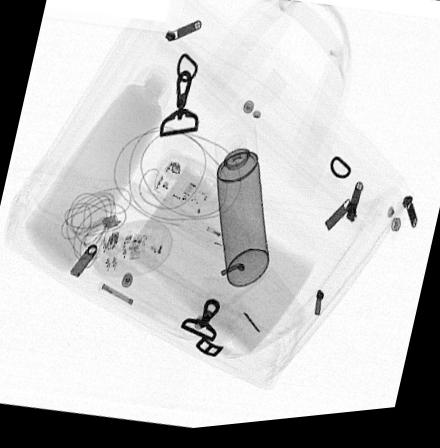Sprayer: (212, 118, 269, 293)
